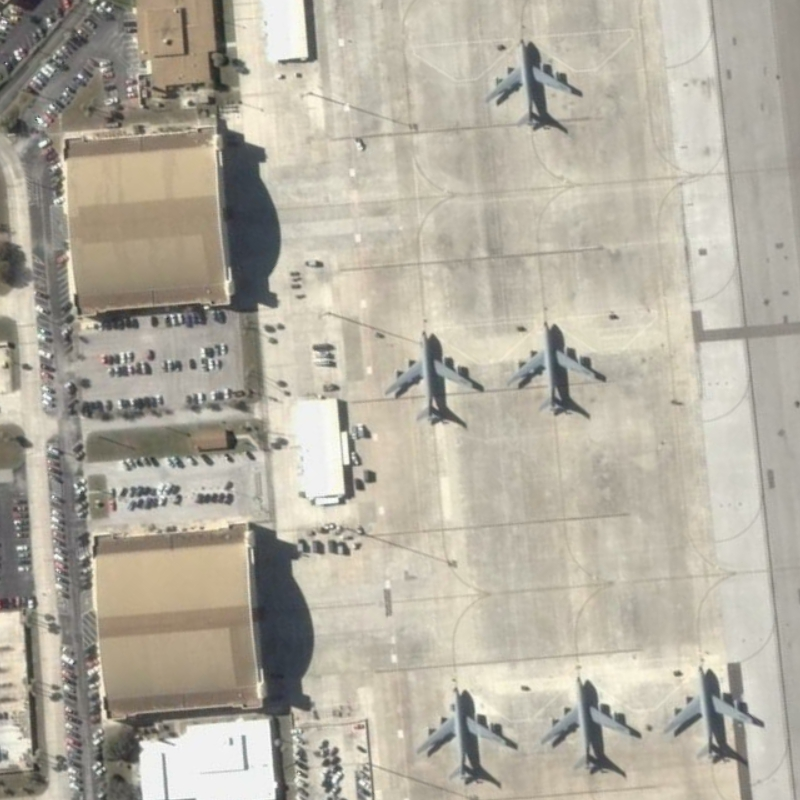A14: (410, 685, 510, 785), (502, 319, 602, 418), (660, 664, 758, 764), (379, 326, 480, 423), (538, 673, 633, 775), (481, 36, 576, 131)
